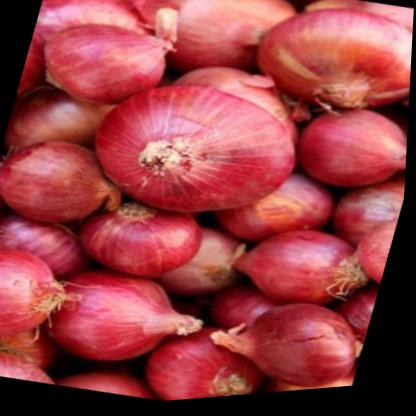onion: (92, 62, 316, 247), (236, 0, 415, 137), (42, 252, 218, 389), (224, 285, 377, 401), (289, 97, 411, 218), (0, 223, 90, 354)
